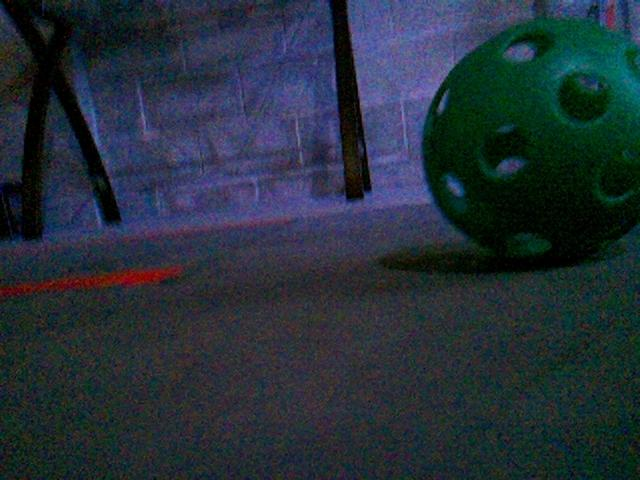Green: (417, 16, 640, 264)
